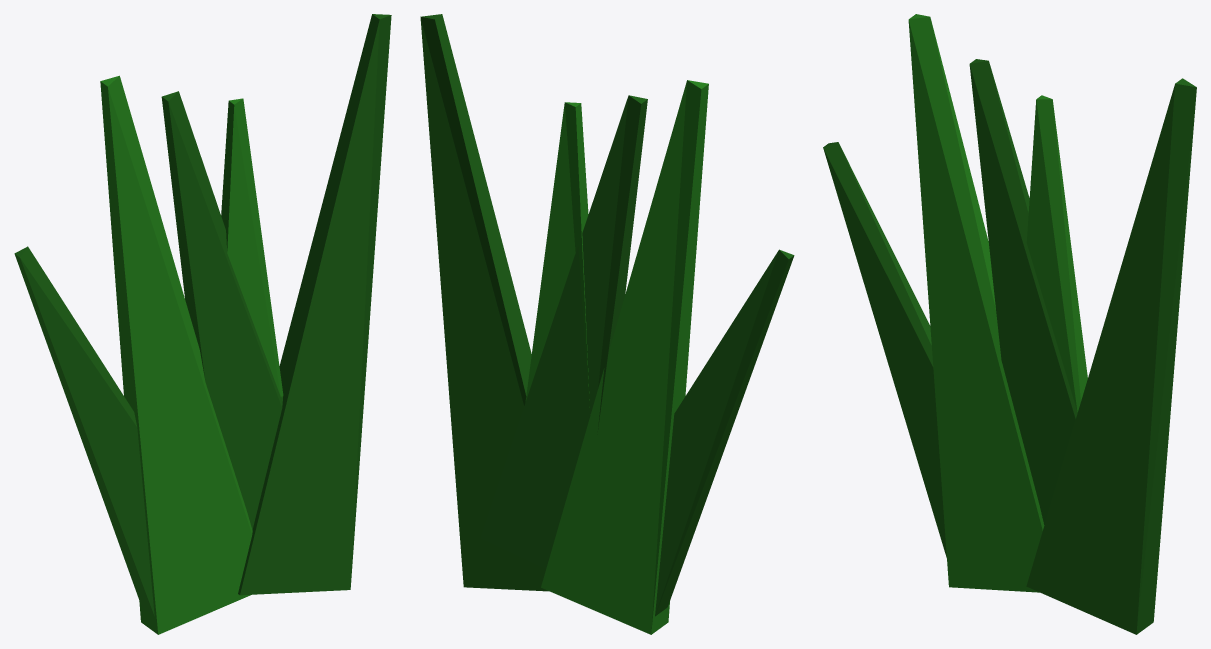
The model's file is Grass_1_mat.fbx.
3 renders of one model, left to right at view 1: azimuth 30°, elevation 25°; view 2: azimuth 150°, elevation 25°; view 3: azimuth 330°, elevation 25°, orthographic.
Parts seen in each view (by area): view 1: Grass_1_mat; view 2: Grass_1_mat; view 3: Grass_1_mat.
Part boxes in pixels (x1=…): Grass_1_mat: x1=14, y1=14, x2=391, y2=634; Grass_1_mat: x1=420, y1=14, x2=794, y2=634; Grass_1_mat: x1=823, y1=14, x2=1196, y2=634.
Bounding box in the file's own units: 23.63 × 33.78 × 2.11.
